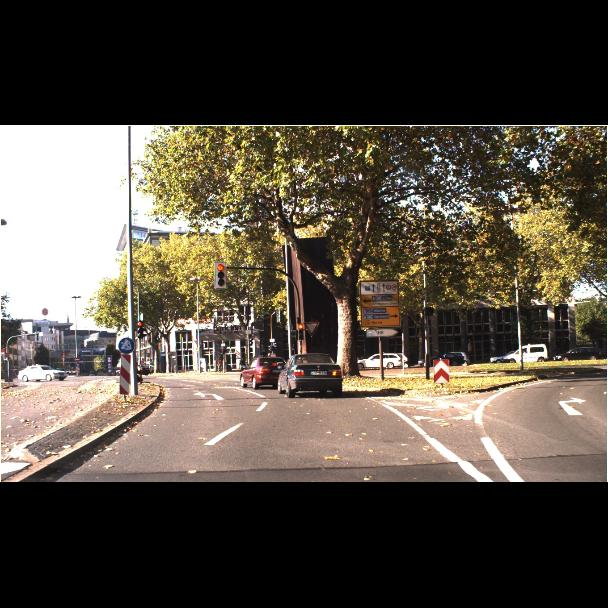keep right: (118, 321, 319, 355)
